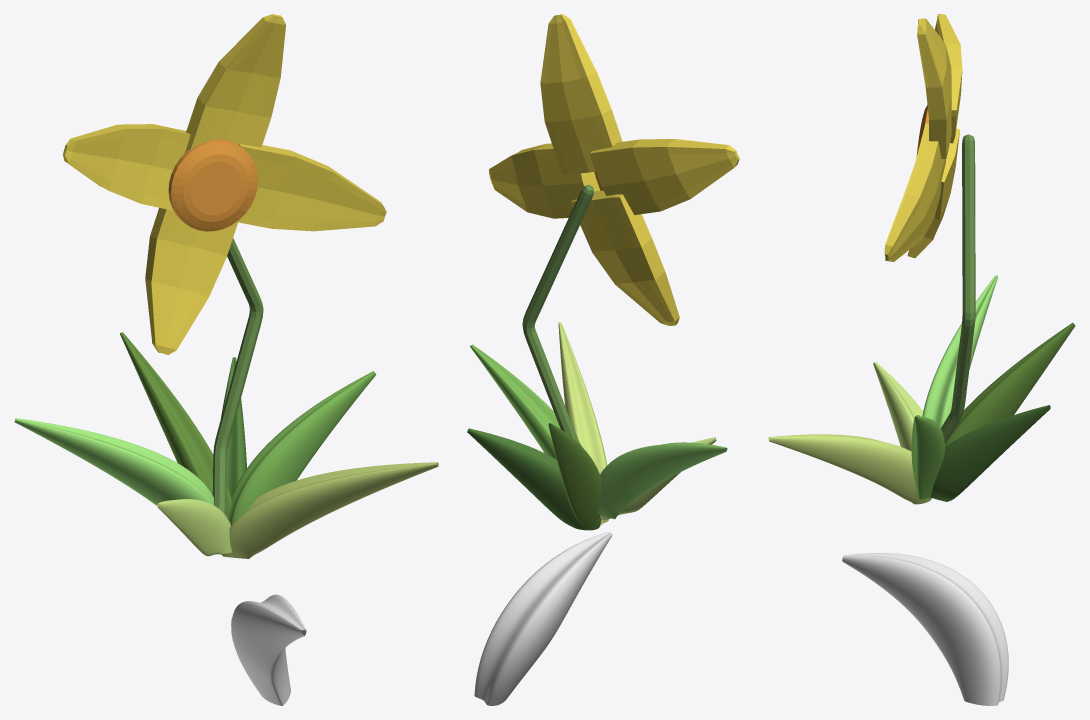
File: flower.fbx
3 renders of one model, left to right at view 1: azimuth 30°, elevation 25°; view 2: azimuth 150°, elevation 25°; view 3: azimuth 270°, elevation 25°, orthographic. The views are drawn at different scales.
Visible parts, largest first — view 1: 平面, NURBSパス.001, 円, NURBSパス.004, NURBSパス.003, NURBSパス.005, NURBSパス.006, 立方体, NURBSパス, NURBSパス.002; view 2: 平面, NURBSパス.005, NURBSパス.004, NURBSパス.002, 立方体, NURBSパス.006, NURBSパス.001, NURBSパス.003, NURBSパス; view 3: NURBSパス.005, 平面, NURBSパス.001, NURBSパス.002, 立方体, NURBSパス.006, NURBSパス.004, NURBSパス.003, NURBSパス.
Part boxes in pixels (x1,y1,x2,y2): 平面: [63, 14, 386, 354]; NURBSパス.001: [222, 462, 438, 558]; 円: [168, 139, 258, 231]; NURBSパス.004: [14, 418, 213, 505]; NURBSパス.003: [229, 371, 376, 525]; NURBSパス.005: [231, 594, 306, 705]; NURBSパス.006: [120, 332, 231, 518]; 立方体: [212, 238, 263, 515]; NURBSパス: [156, 499, 231, 556]; NURBSパス.002: [220, 357, 246, 554]; 平面: [489, 14, 739, 325]; NURBSパス.005: [474, 532, 612, 705]; NURBSパス.004: [597, 442, 727, 519]; NURBSパス.002: [467, 428, 601, 530]; 立方体: [522, 185, 593, 445]; NURBSパス.006: [548, 423, 601, 523]; NURBSパス.001: [558, 322, 608, 525]; NURBSパス.003: [470, 344, 582, 459]; NURBSパス: [600, 437, 716, 519]; NURBSパス.005: [842, 553, 1008, 705]; 平面: [884, 14, 962, 261]; NURBSパス.001: [768, 434, 931, 504]; NURBSパス.002: [930, 405, 1050, 501]; 立方体: [941, 134, 975, 442]; NURBSパス.006: [944, 322, 1075, 446]; NURBSパス.004: [922, 275, 997, 427]; NURBSパス.003: [911, 415, 944, 499]; NURBSパス: [873, 362, 922, 451].
Size of the model in its own units: 505 by 1087 by 453.
